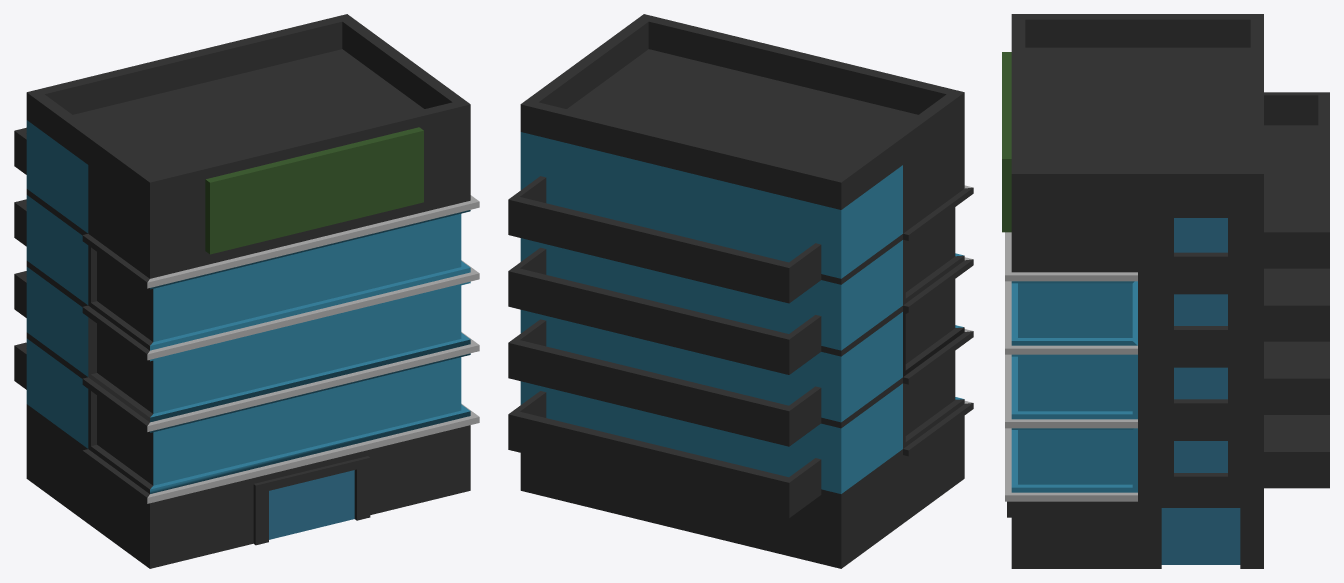
Rendered from obj_building_01_01.FBX.
3 views of the same model, side by side, from view 1: azimuth 30°, elevation 25°; view 2: azimuth 150°, elevation 25°; view 3: azimuth 270°, elevation 25° (orthographic). The views are drawn at different scales.
Visible parts, largest first — view 1: obj_building_01_01; view 2: obj_building_01_01; view 3: obj_building_01_01.
Part boxes in pixels (<box>): obj_building_01_01: <box>14,14,479,568</box>; obj_building_01_01: <box>508,14,973,568</box>; obj_building_01_01: <box>1002,14,1329,568</box>.
Bounding box in the file's own units: 58.66 × 65.17 × 49.01.
